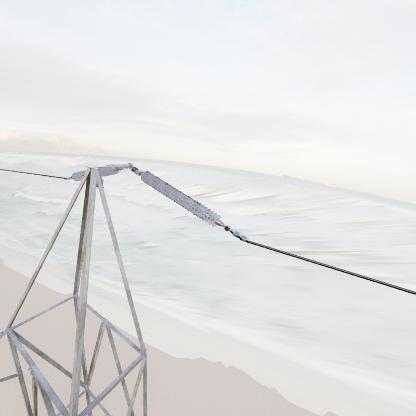insulator: (137, 168, 229, 231), (71, 162, 125, 183)
